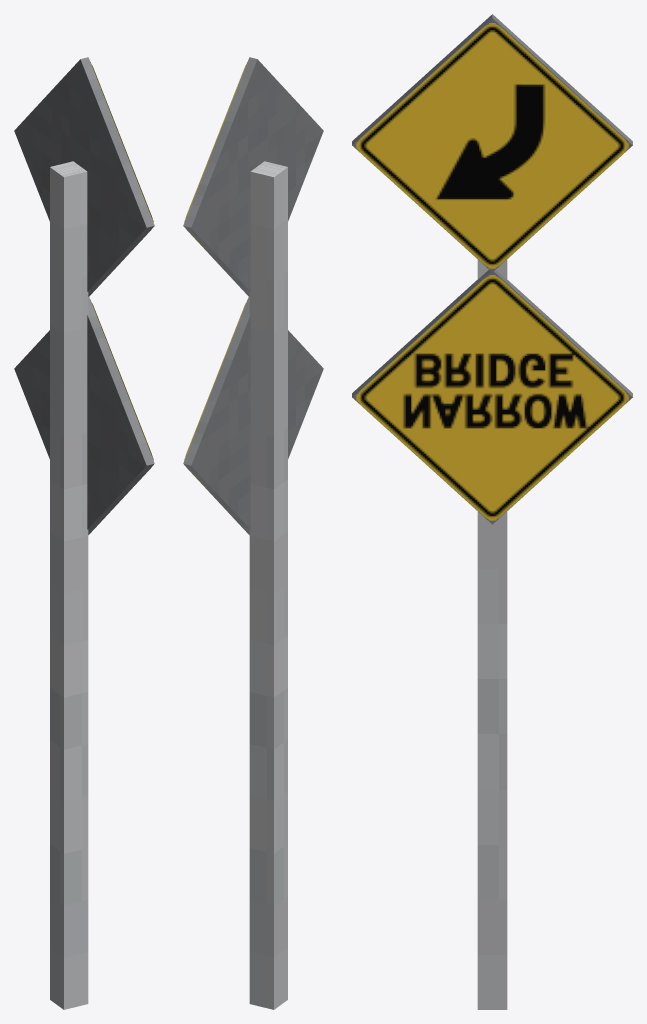
File: signwarningdouble.obj
3 views of the same model, side by side, from view 1: azimuth 30°, elevation 25°; view 2: azimuth 150°, elevation 25°; view 3: azimuth 270°, elevation 25° (orthographic). The views are drawn at different scales.
Visible parts, largest first — view 1: cube, cylinder, plane; view 2: cube, cylinder, plane; view 3: plane, cube, cylinder.
Boxes of the visible parts, x1=… form: cube: x1=50, y1=161, x2=88, y2=1009; cylinder: x1=14, y1=57, x2=154, y2=534; plane: x1=90, y1=62, x2=153, y2=526; cube: x1=249, y1=161, x2=287, y2=1009; cylinder: x1=183, y1=57, x2=323, y2=534; plane: x1=184, y1=62, x2=247, y2=526; plane: x1=356, y1=23, x2=628, y2=520; cube: x1=477, y1=259, x2=507, y2=1009; cylinder: x1=352, y1=14, x2=632, y2=524.
Bounding box in the file's own units: 0.125 × 3.46 × 0.8839.
4 materials, 4 textured.
